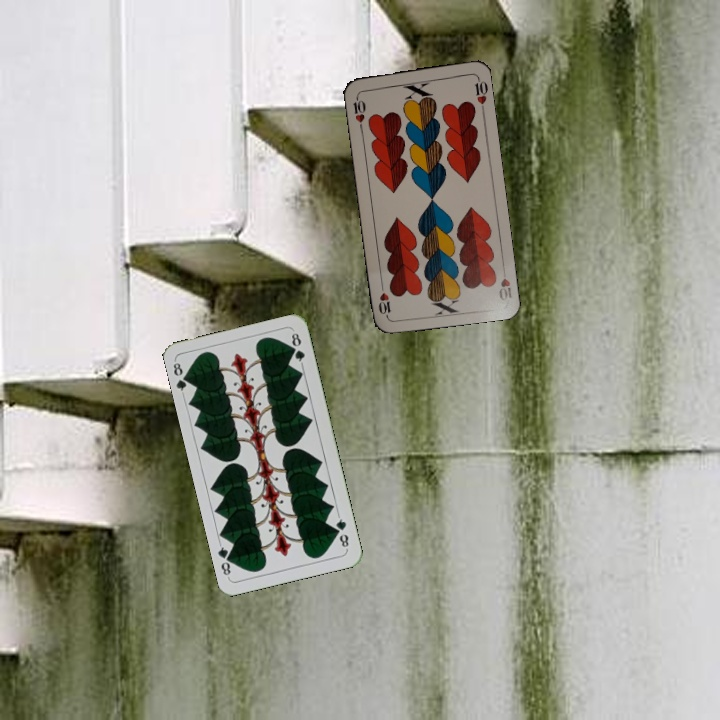G8: (169, 357, 193, 397), (332, 512, 351, 552)
H10: (495, 262, 515, 303), (349, 91, 368, 132)
